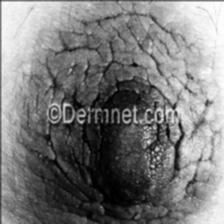Unclassified: (32, 126, 220, 224), (38, 8, 216, 104)
